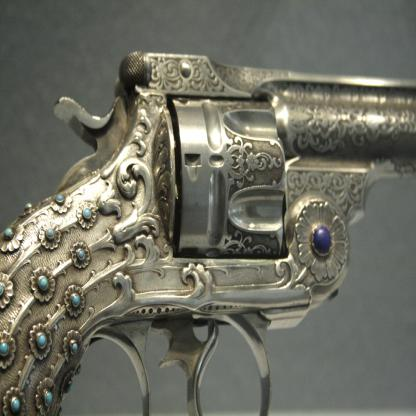Handgun: (0, 51, 416, 416)
